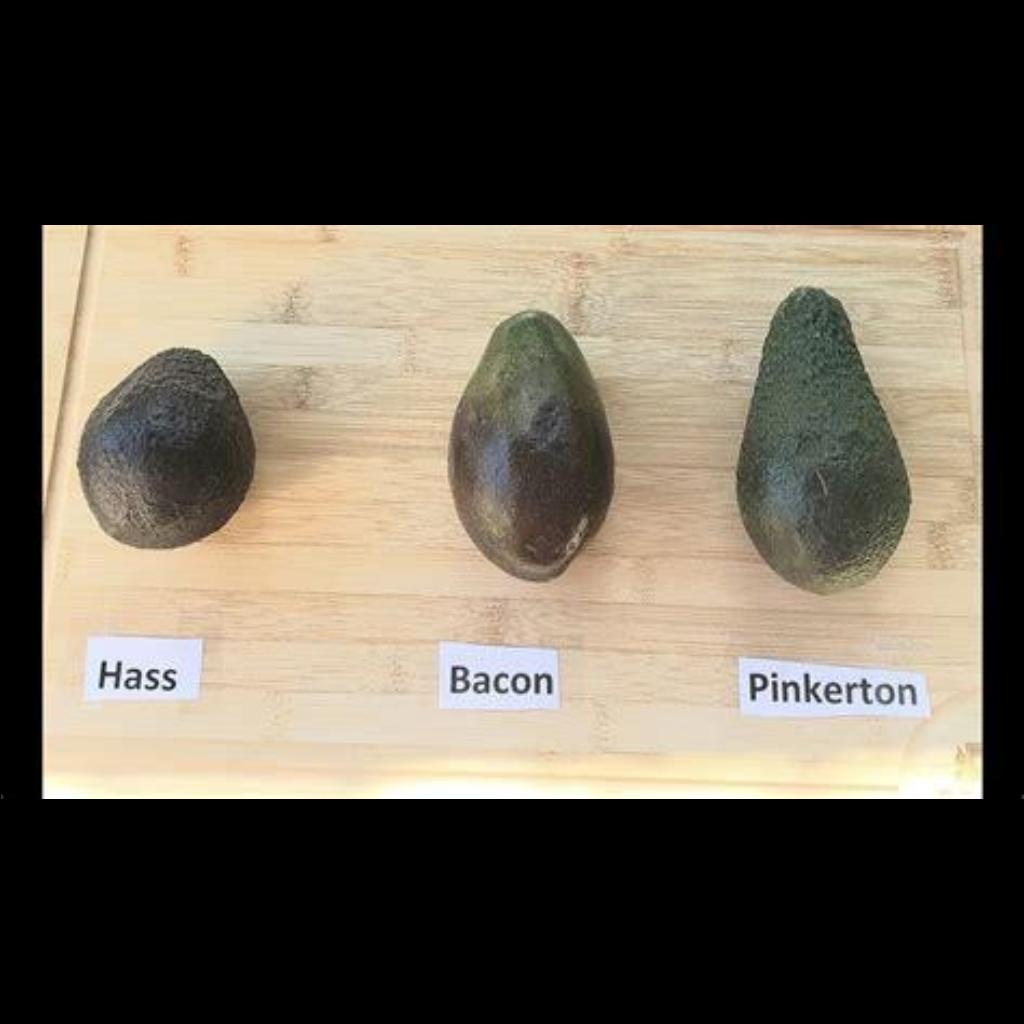Anthracnose: (455, 350, 617, 578), (80, 348, 258, 542)
